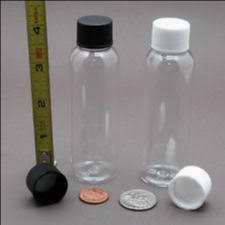Plastic: (66, 10, 123, 183)
